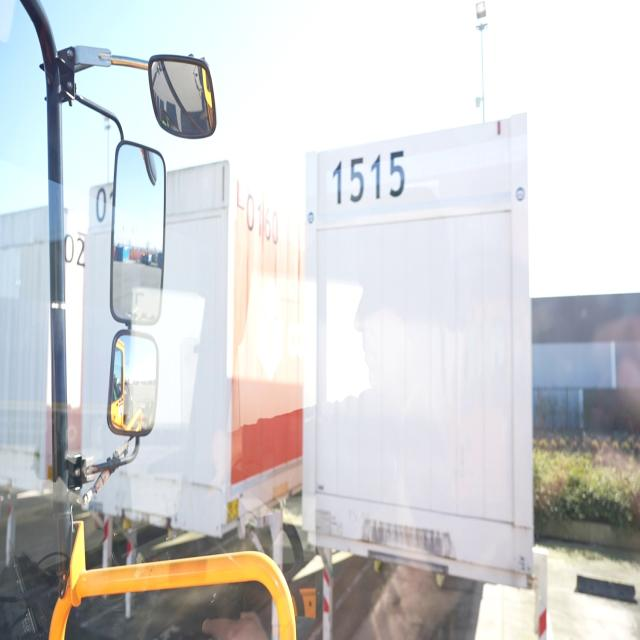Code: (330, 145, 409, 207), (242, 184, 284, 248)
